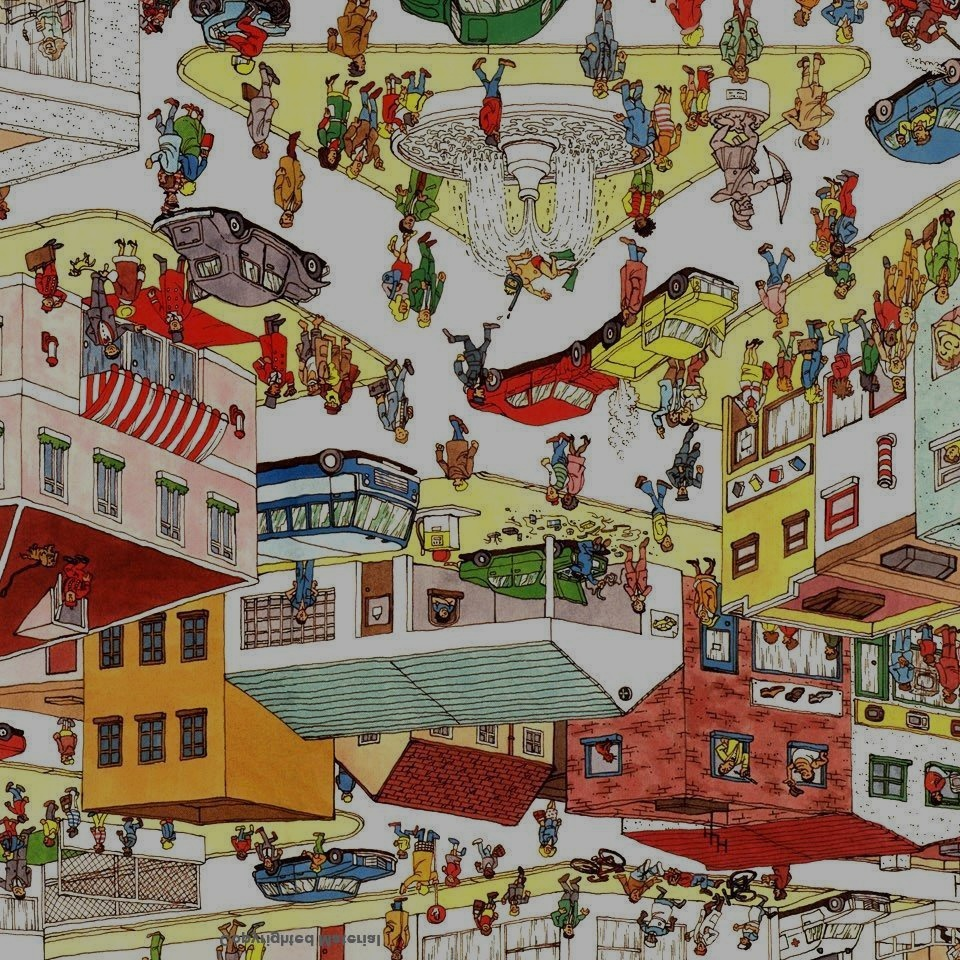waldo: (141, 0, 200, 36)
